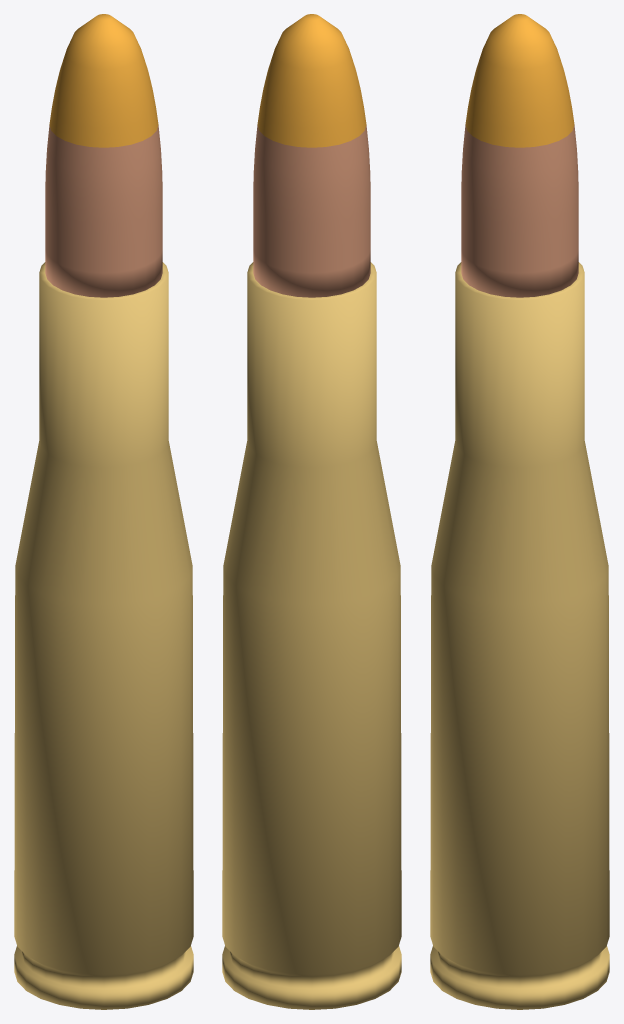
The picture shows the model from 3 angles, left to right: view 1: azimuth 30°, elevation 25°; view 2: azimuth 150°, elevation 25°; view 3: azimuth 270°, elevation 25°; orthographic projection.
Parts seen in each view (by area): view 1: vaina, bala_cuerpo, punta; view 2: vaina, bala_cuerpo, punta; view 3: vaina, bala_cuerpo, punta.
Part boxes in pixels (x1=…): vaina: x1=14, y1=262, x2=193, y2=1009; bala_cuerpo: x1=45, y1=125, x2=162, y2=297; punta: x1=49, y1=14, x2=158, y2=147; vaina: x1=222, y1=262, x2=401, y2=1009; bala_cuerpo: x1=253, y1=125, x2=370, y2=297; punta: x1=257, y1=14, x2=366, y2=147; vaina: x1=430, y1=262, x2=609, y2=1009; bala_cuerpo: x1=461, y1=125, x2=578, y2=297; punta: x1=465, y1=14, x2=574, y2=147.
Bounding box in the file's own units: 0.0119 × 0.0699 × 0.0119.
